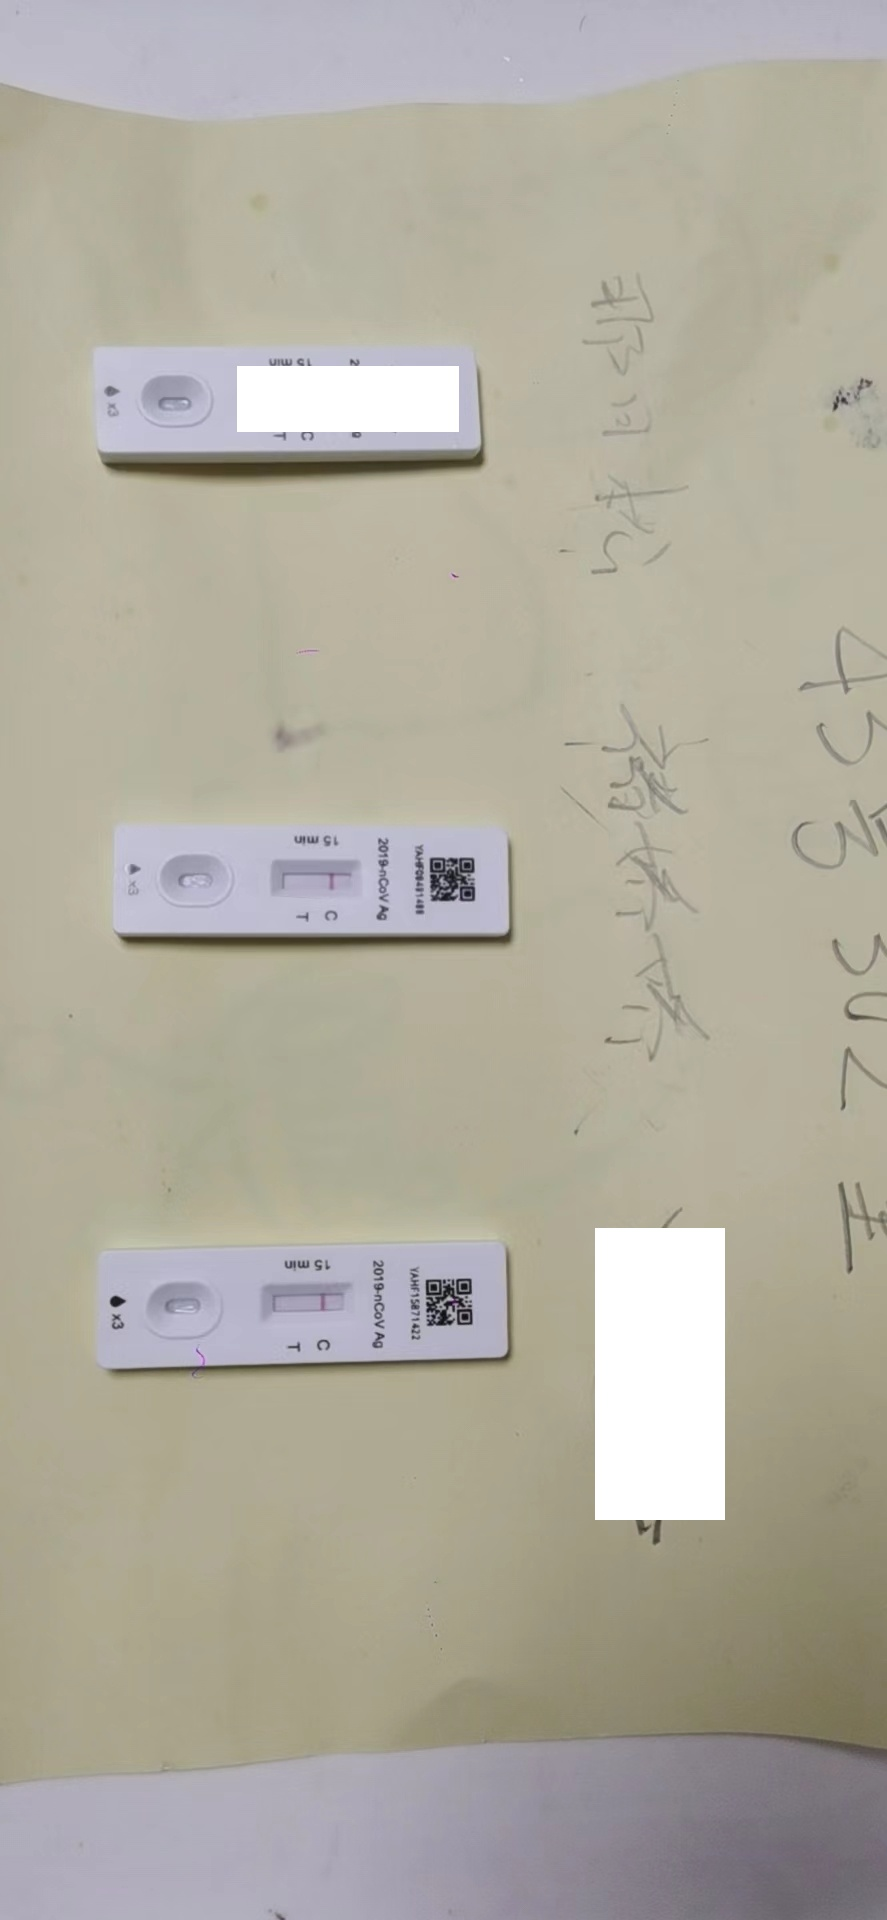negative: (272, 863, 361, 898), (262, 1286, 352, 1320)
